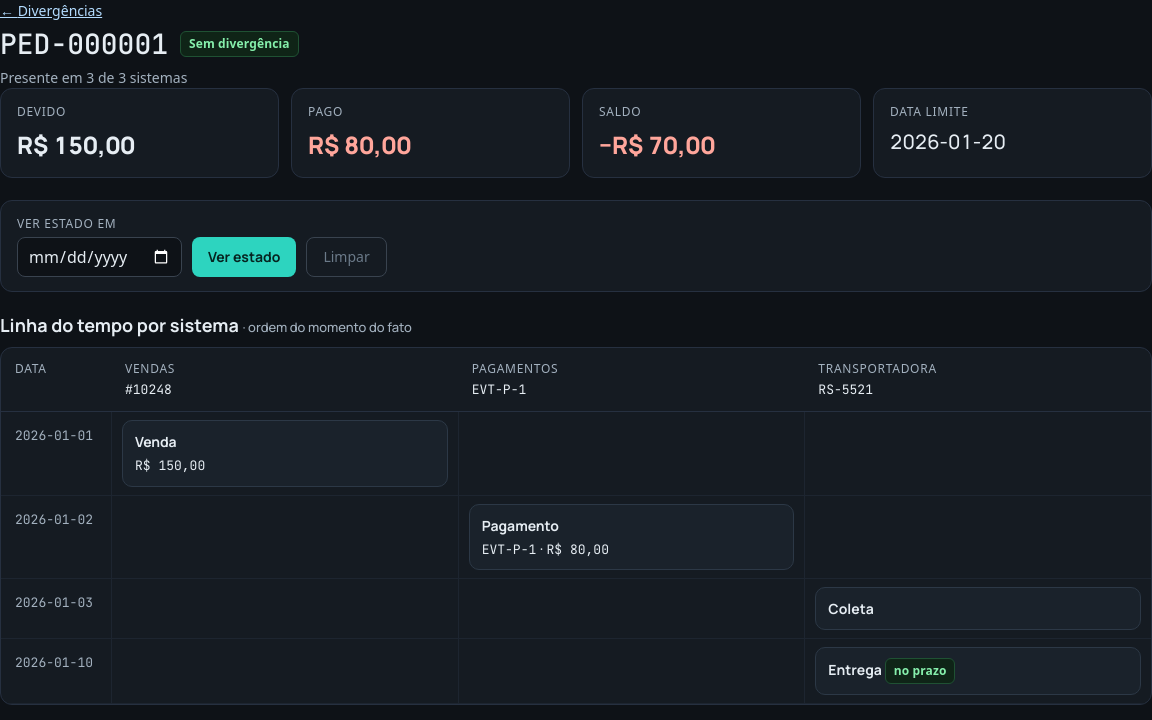
Scenario: Estado do pedido em uma data — Limpar › clicar em Limpar remove a frase e a atenuação, eventos voltam ao normal
Check: the heading named "Pedido PED-000001" is shown, box [0,27,168,61]
Step 1. Type "2026-01-05" into the date field labelled "Ver estado em" → (100, 257), box [17,237,182,277]
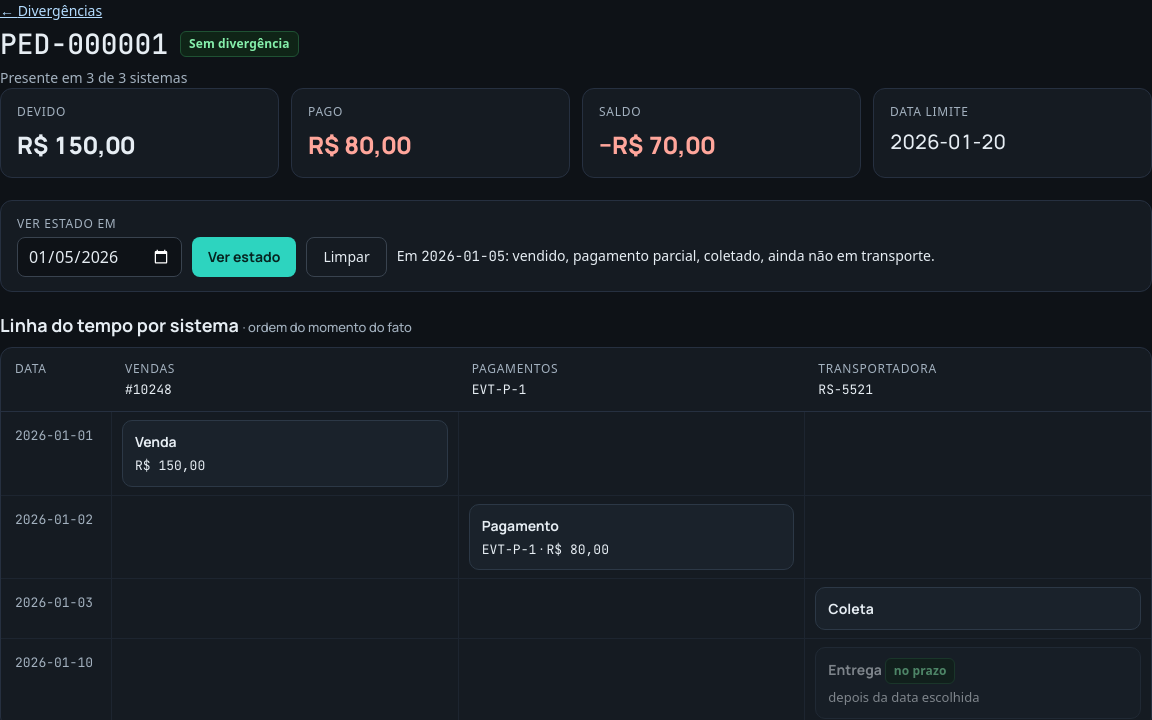
Check: the text "depois da data escolhida" is shown, box [828,688,980,706]
Step 2. Click the button "Limpar" → click(347, 257), box [306,237,387,277]
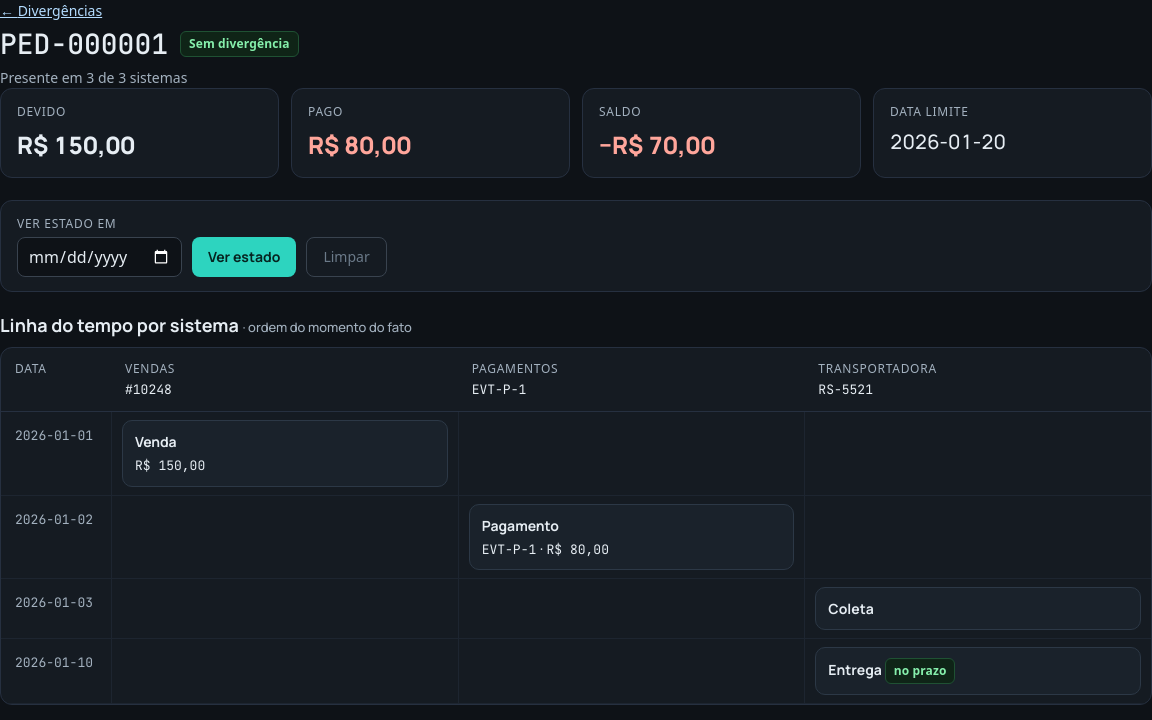
Check: the text "depois da data escolhida" is gone
